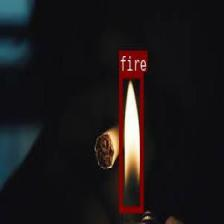fire: (118, 71, 142, 211)
